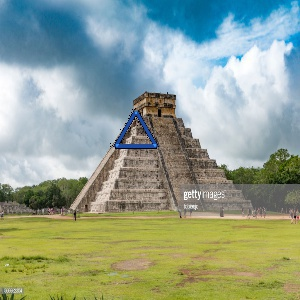triangle: (112, 107, 160, 150)
